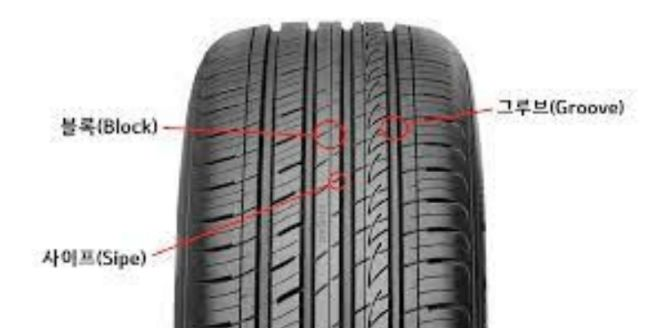new_condition: (177, 25, 497, 328)
